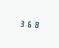eight: (33, 20, 39, 28)
six: (26, 19, 32, 28)
three: (18, 19, 24, 27)
